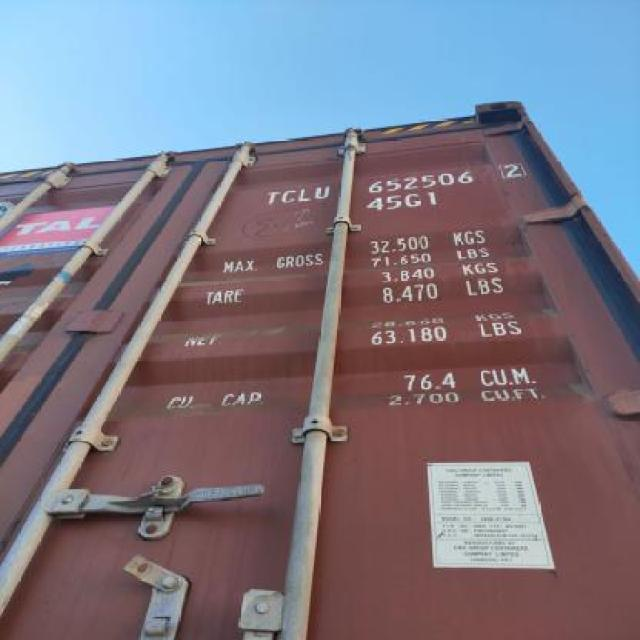ISO: (370, 183, 445, 222)
container_number: (262, 152, 530, 208)
